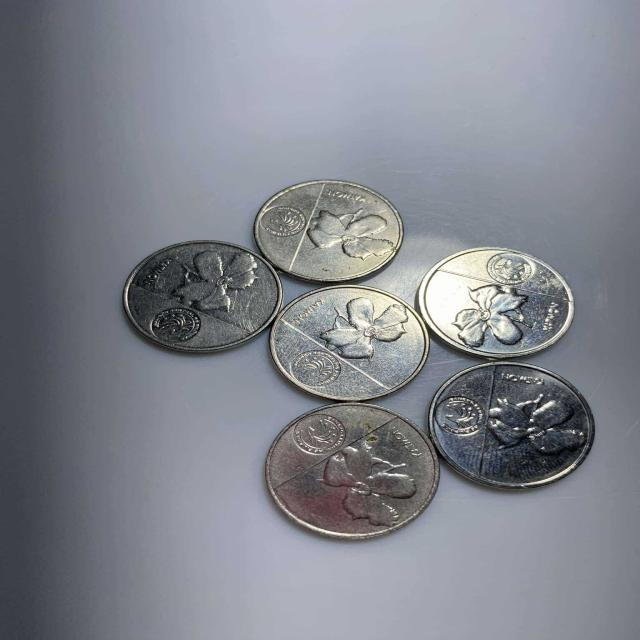25Cent_New_Back: (302, 439, 429, 529), (477, 385, 599, 475), (310, 292, 418, 373), (157, 243, 271, 316), (298, 192, 398, 267), (446, 280, 543, 344)
